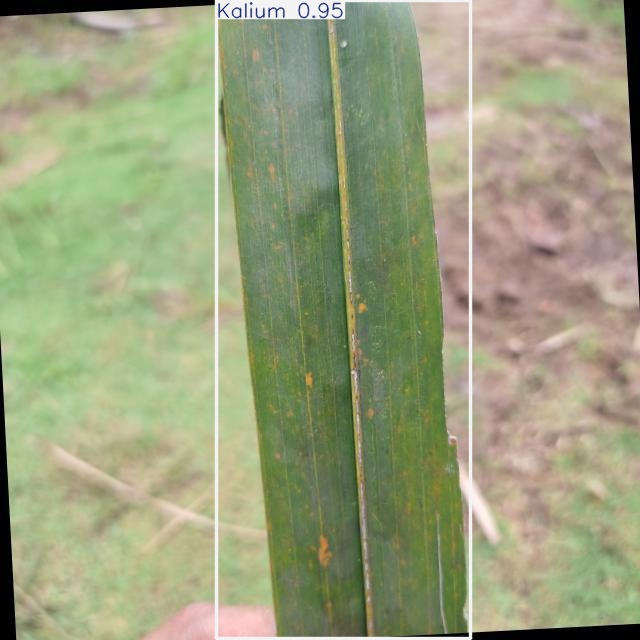Kalium: (216, 1, 471, 639)
